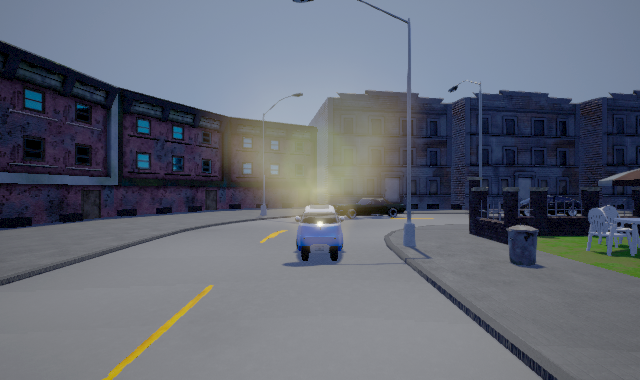vehicle: (295, 198, 343, 265), (333, 192, 407, 221)
